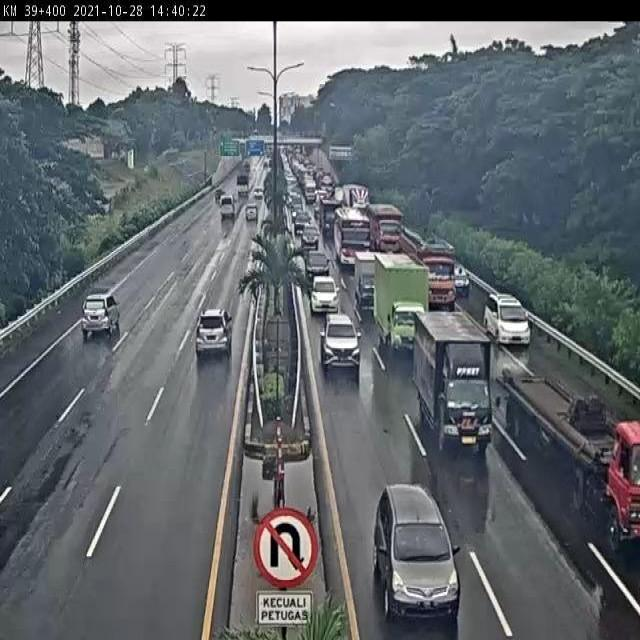bus-l-: (330, 207, 371, 270)
car: (374, 483, 462, 621), (321, 316, 363, 376), (484, 292, 531, 345), (193, 307, 235, 353), (81, 293, 118, 339), (311, 276, 340, 315), (305, 245, 331, 280)
truck-l-: (402, 229, 456, 307)
truck-m-: (413, 309, 492, 451), (373, 252, 429, 355)
truck-s-: (353, 249, 379, 311)
truck-xl-: (496, 360, 639, 548)
